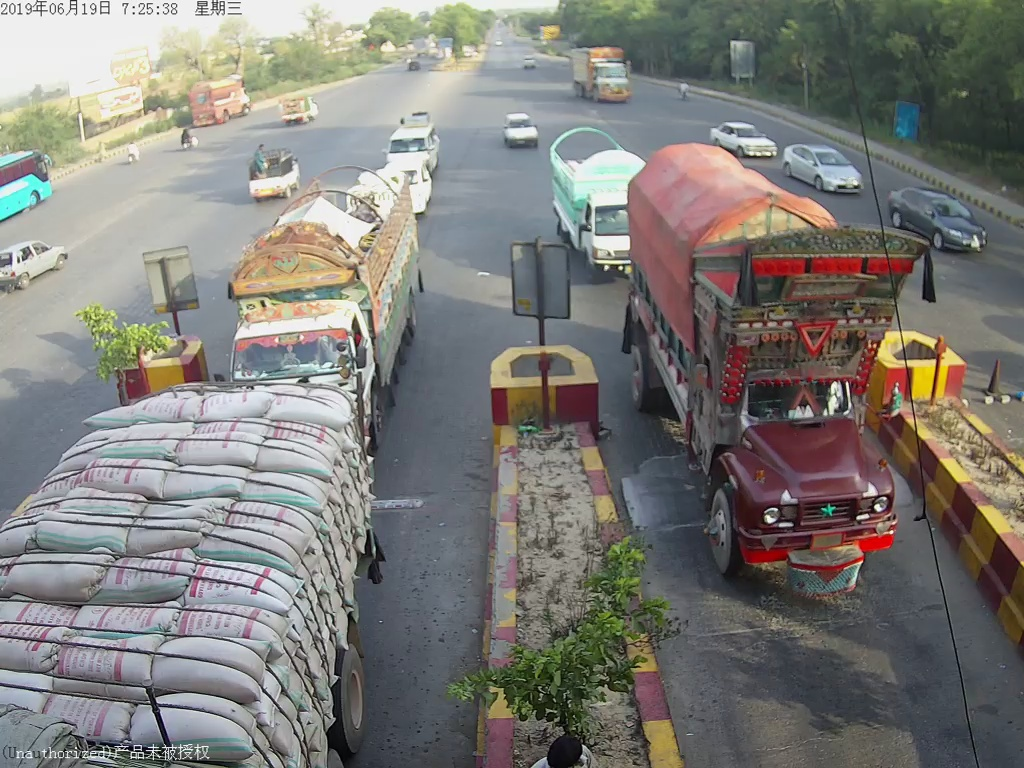Cat-4: (624, 162, 959, 609), (222, 186, 416, 370)
